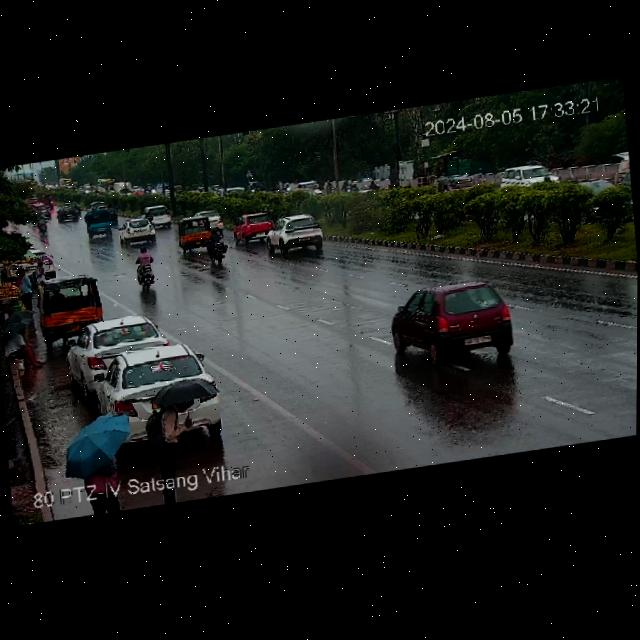car: (379, 272, 522, 375), (100, 342, 207, 415), (66, 312, 164, 384), (36, 272, 109, 340), (265, 217, 328, 258), (497, 158, 558, 194), (437, 170, 500, 195), (176, 213, 216, 250), (234, 210, 273, 247), (118, 217, 158, 246), (437, 169, 474, 194), (151, 202, 174, 229), (206, 207, 226, 232), (57, 203, 79, 224), (106, 202, 120, 225), (88, 200, 106, 211), (70, 199, 81, 213)
motorcycle: (129, 244, 160, 293), (200, 225, 232, 264), (36, 214, 49, 236), (144, 211, 153, 224)
person: (151, 382, 186, 470), (1, 323, 49, 376), (92, 452, 131, 486), (13, 265, 35, 309)
truck: (87, 206, 112, 239)
